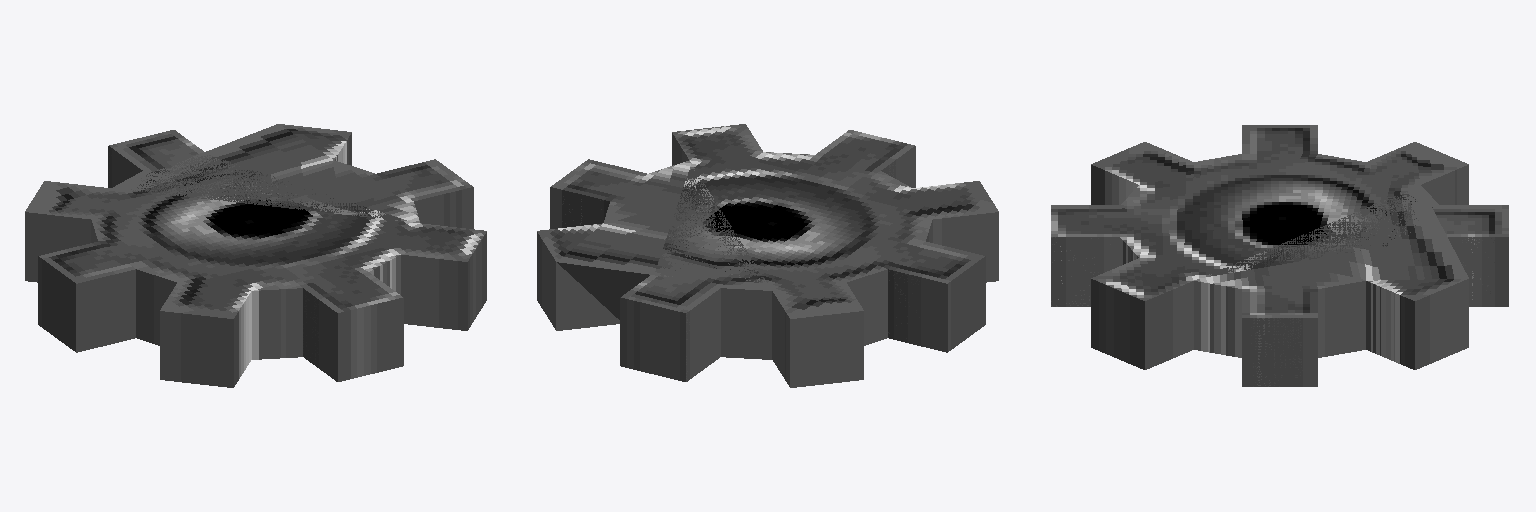
The picture shows the model from 3 angles: view 1: azimuth 30°, elevation 25°; view 2: azimuth 150°, elevation 25°; view 3: azimuth 270°, elevation 25°; orthographic projection.
Visible parts, largest first — view 1: cogside.bmp; view 2: cogside.bmp; view 3: cogside.bmp.
Part boxes in pixels (left/top/right/bottom): cogside.bmp: left=25, top=124, right=486, bottom=387; cogside.bmp: left=537, top=124, right=998, bottom=387; cogside.bmp: left=1051, top=125, right=1508, bottom=386.
Bounding box in the file's own units: 14.74 × 2.45 × 14.74.
Materials: 1 (1 with a texture image).